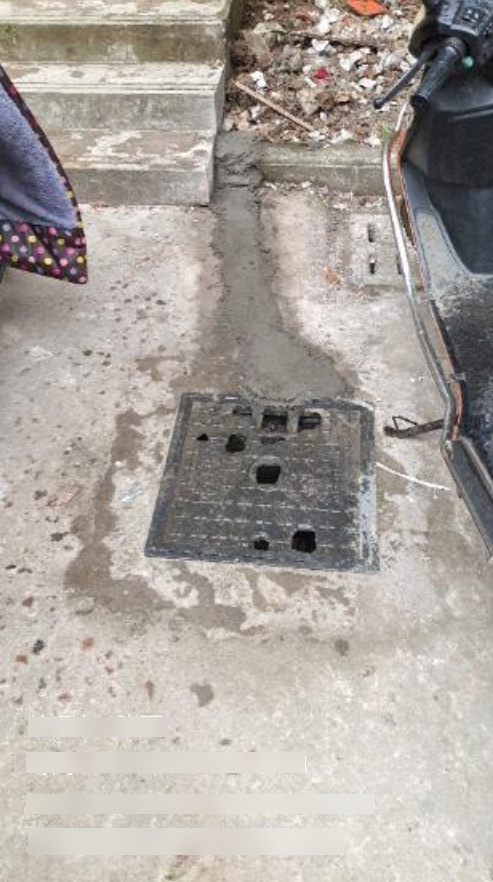broke: (144, 390, 383, 580)
